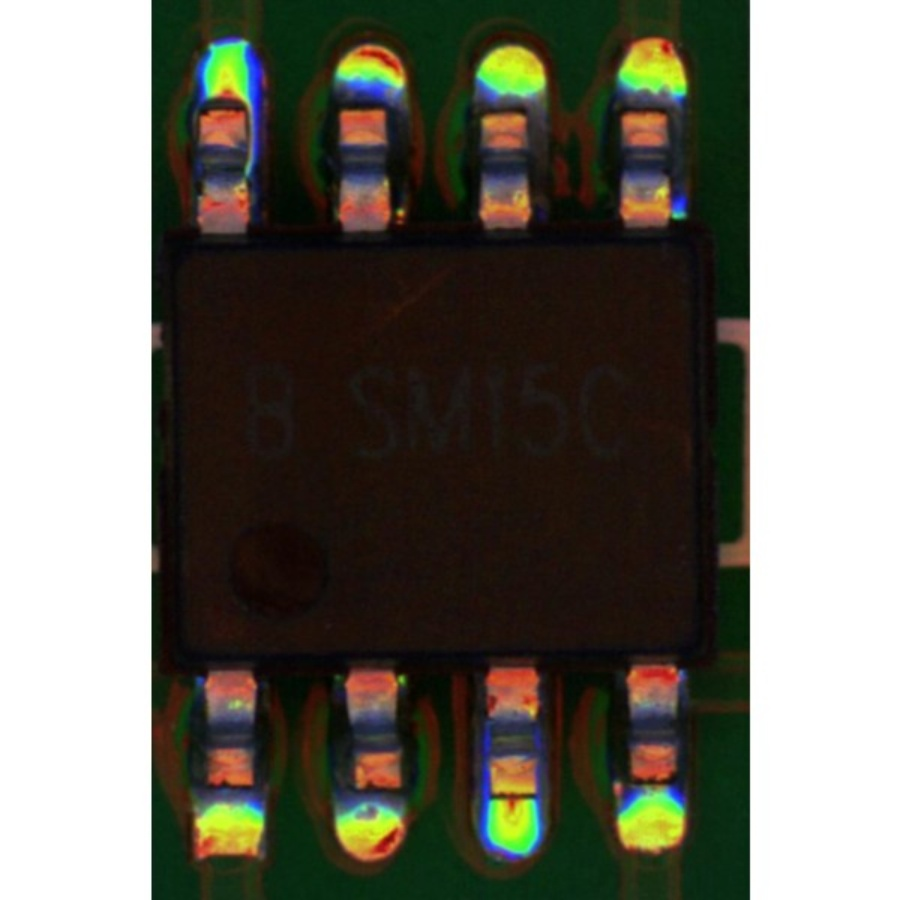Bad_podu: (206, 83, 246, 122), (492, 779, 535, 812)
Bad_qiaojiao: (247, 109, 258, 184)
